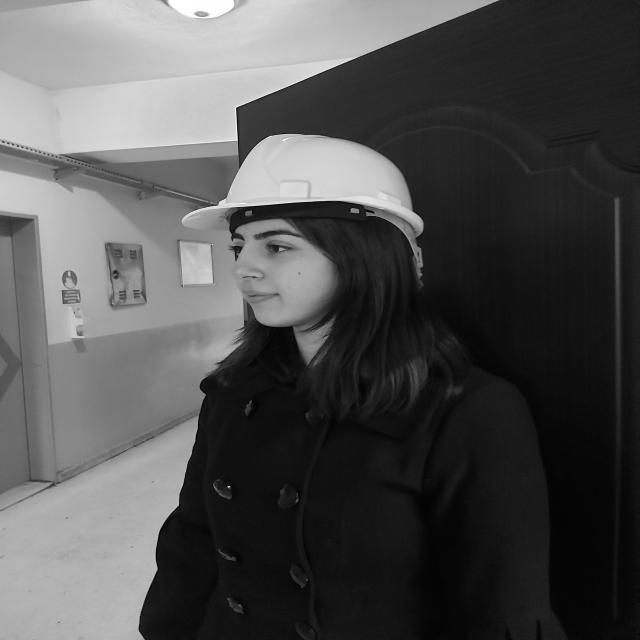safety_helmet: (181, 134, 425, 248)
